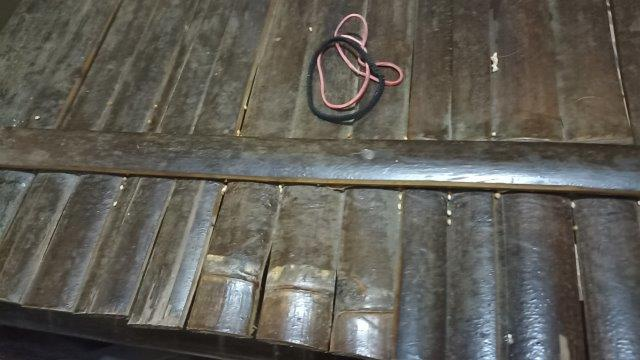karet: (307, 13, 404, 123)
